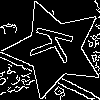K: (29, 24, 84, 68)
